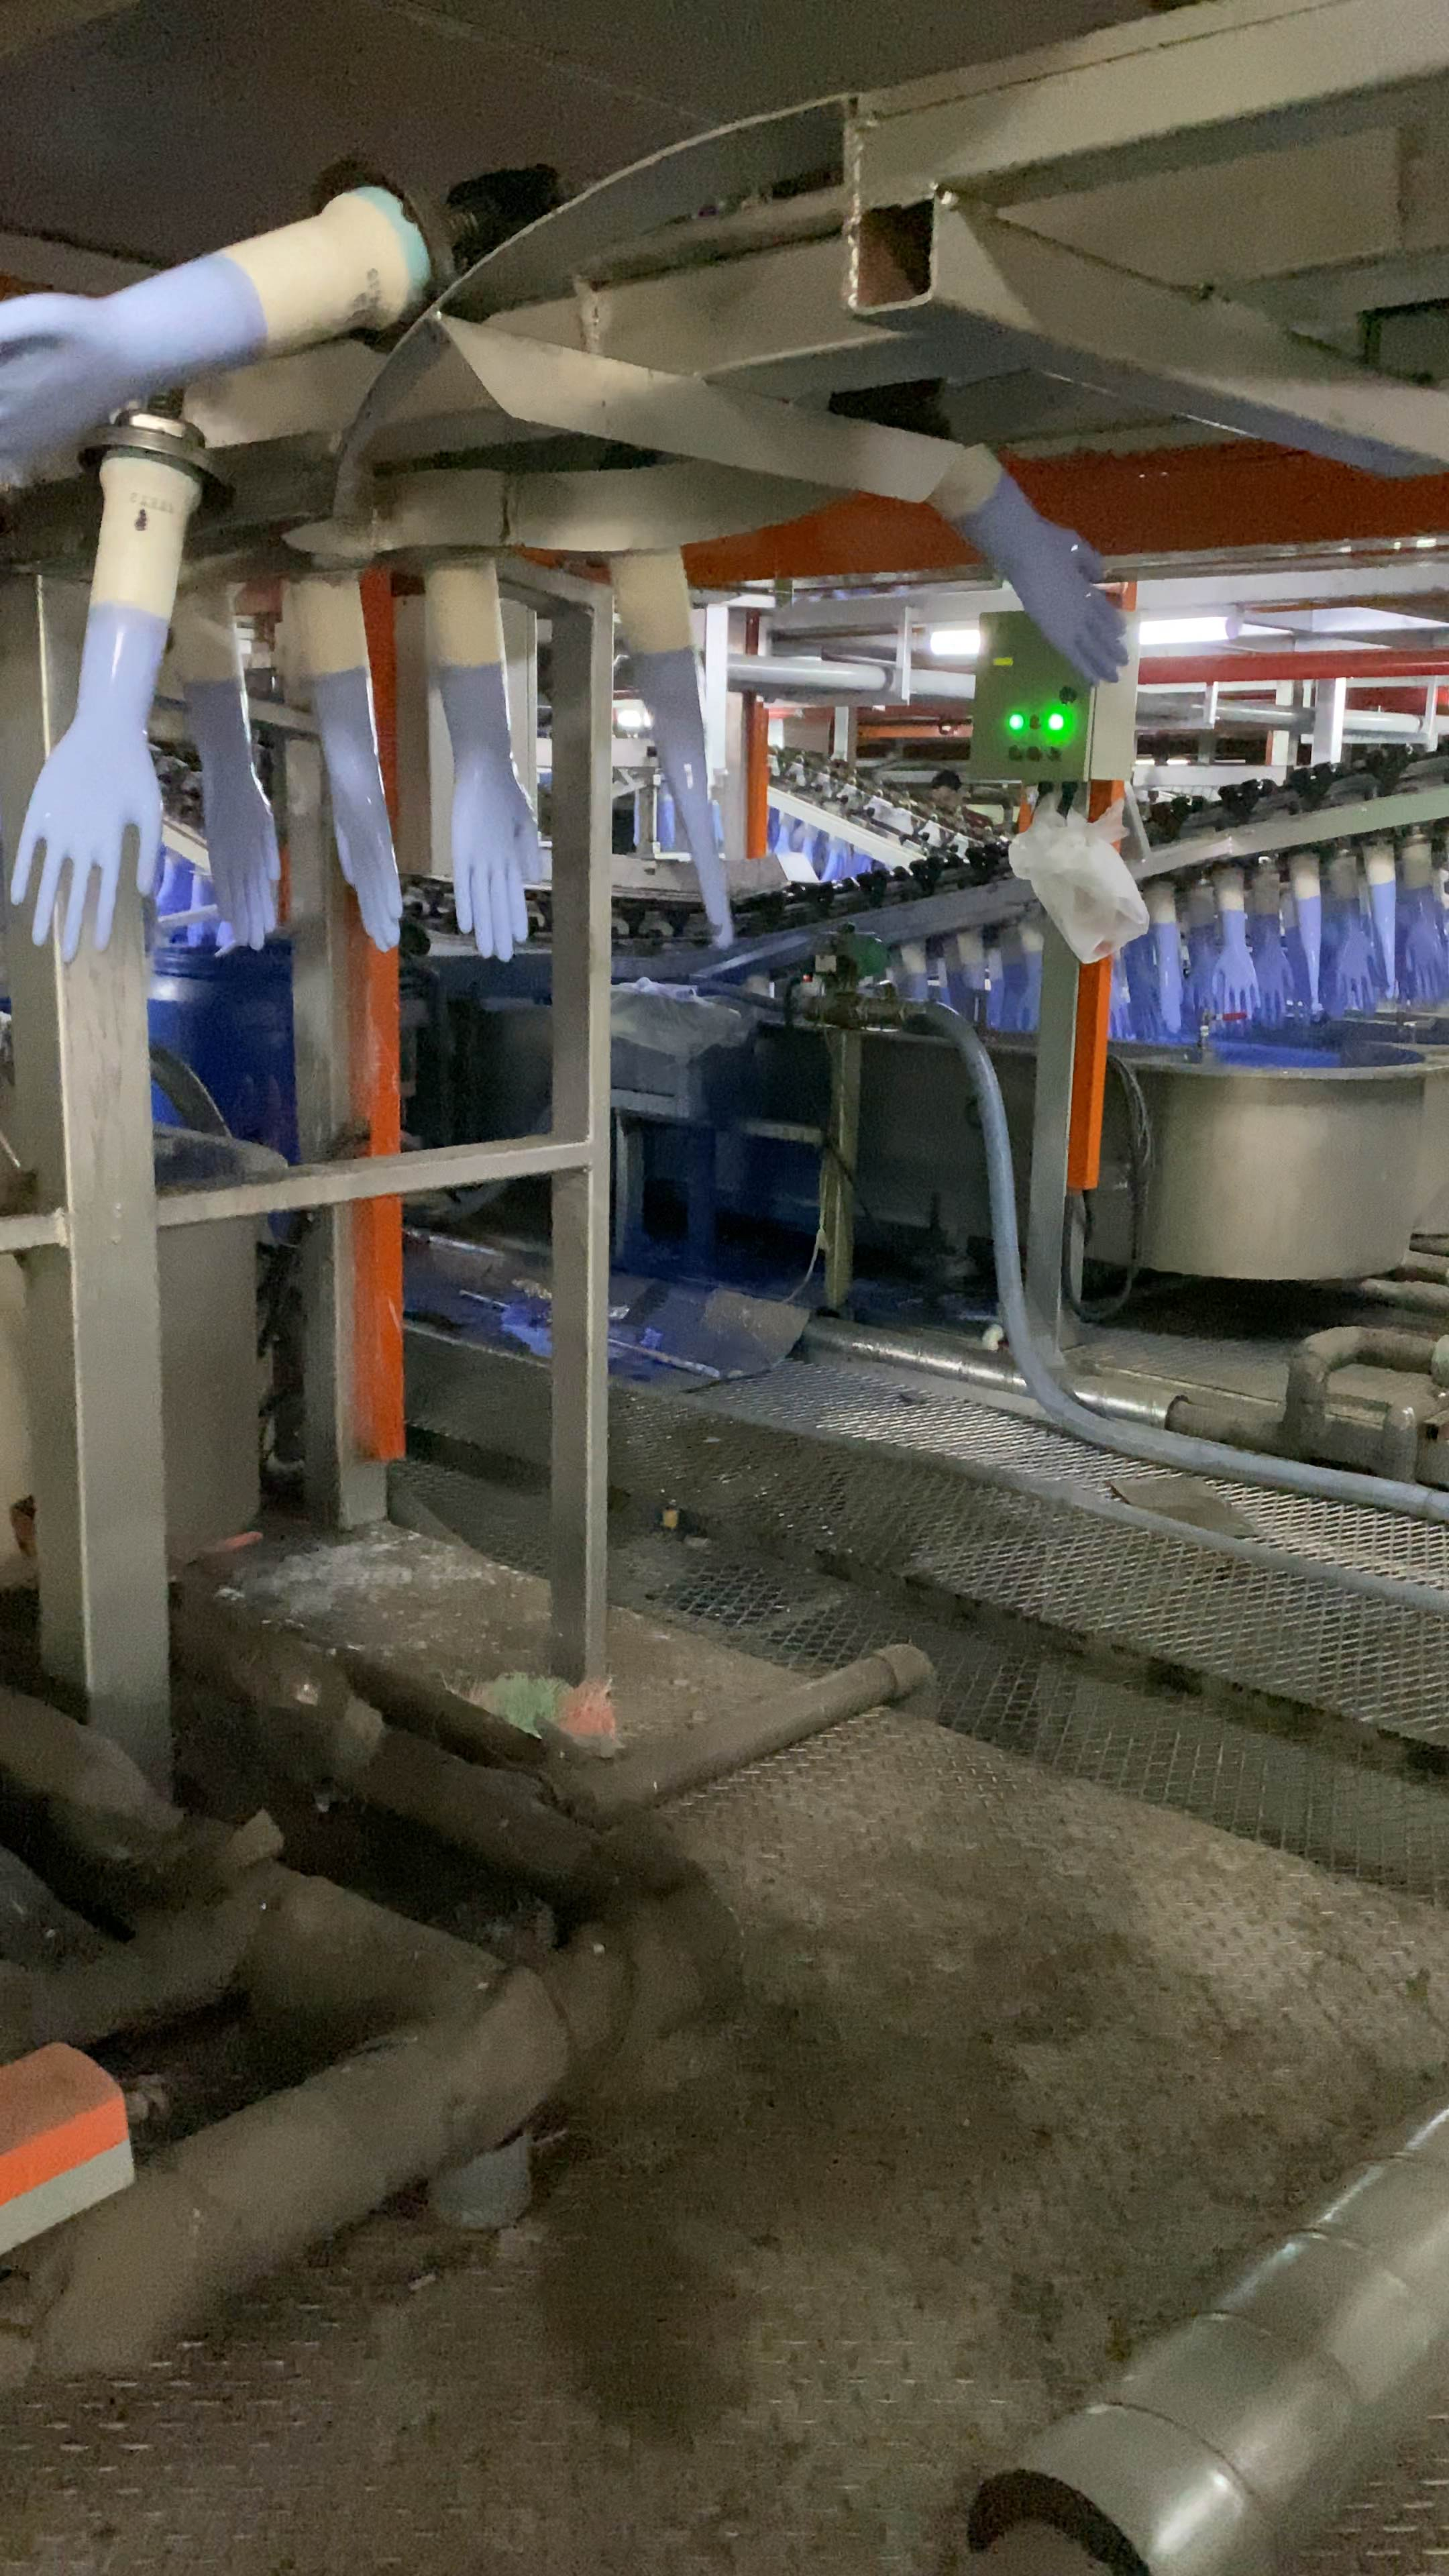glove: (2, 251, 267, 465), (9, 607, 163, 961), (952, 469, 1129, 686), (433, 660, 540, 961), (628, 646, 731, 950), (179, 678, 280, 952), (311, 665, 402, 954), (1212, 911, 1260, 1024), (1249, 909, 1293, 1028), (1332, 901, 1378, 1010), (1403, 888, 1447, 996), (1150, 920, 1184, 1033), (1127, 943, 1161, 1042), (1184, 927, 1219, 1021), (1297, 899, 1323, 1014), (1369, 883, 1396, 994), (1016, 952, 1042, 1030), (1108, 961, 1131, 1039), (819, 853, 846, 879), (773, 826, 791, 853), (851, 855, 872, 874), (801, 839, 814, 867)
